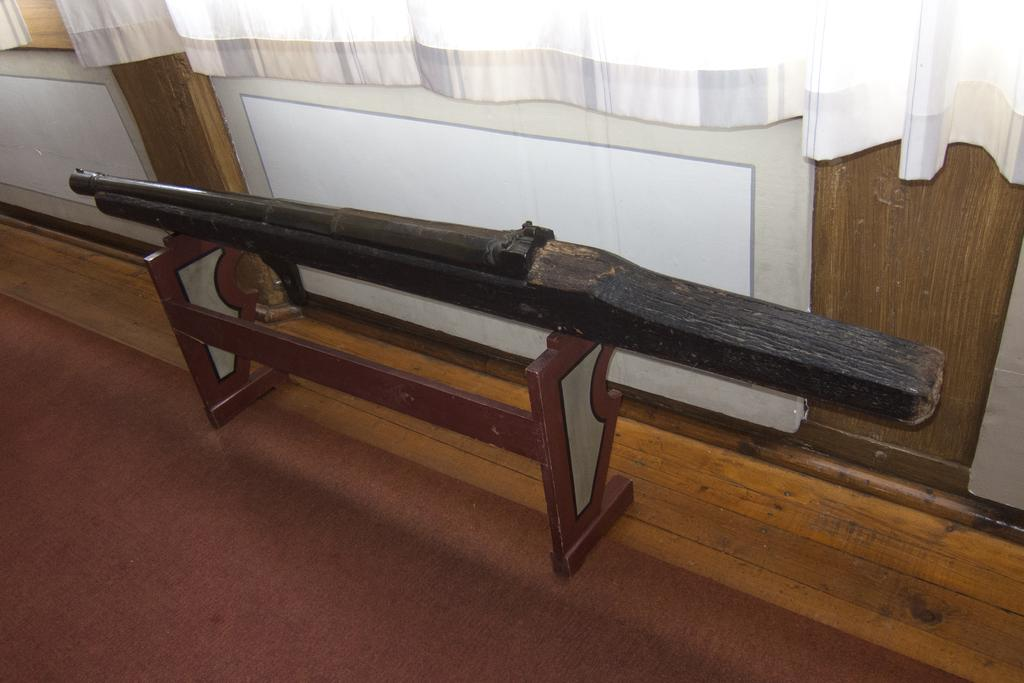Rifle: (67, 163, 943, 427)
